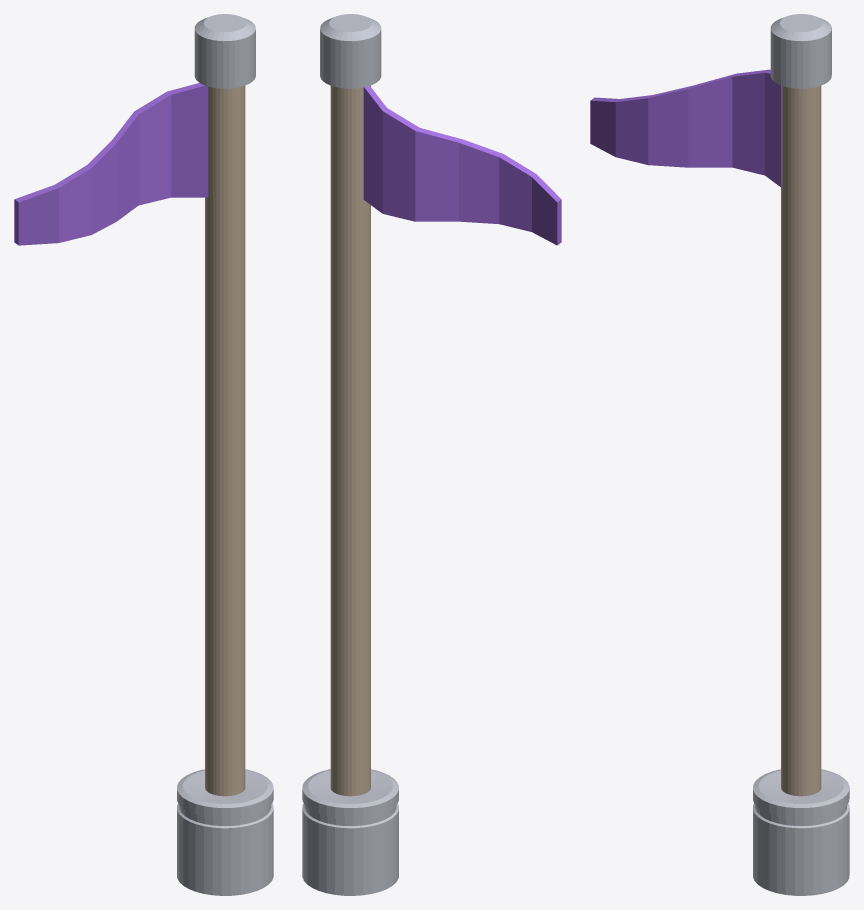
File: Flag.fbx
The picture shows the model from 3 angles, left to right: view 1: azimuth 30°, elevation 25°; view 2: azimuth 150°, elevation 25°; view 3: azimuth 330°, elevation 25°; orthographic projection.
Parts seen in each view (by area): view 1: Cylinder; view 2: Cylinder; view 3: Cylinder.
Part boxes in pixels (box(x1,y1,x2,y2)): Cylinder: box(14, 14, 273, 895); Cylinder: box(302, 14, 561, 895); Cylinder: box(590, 14, 849, 895).
Bounding box in the file's own units: 161 × 524 × 53.99.
